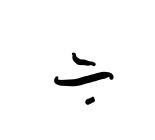div: (53, 50, 115, 107)
